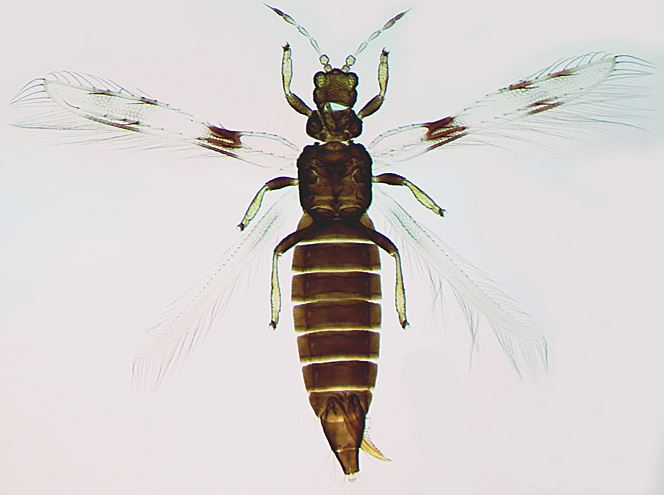Thripidae: (9, 3, 664, 484)
